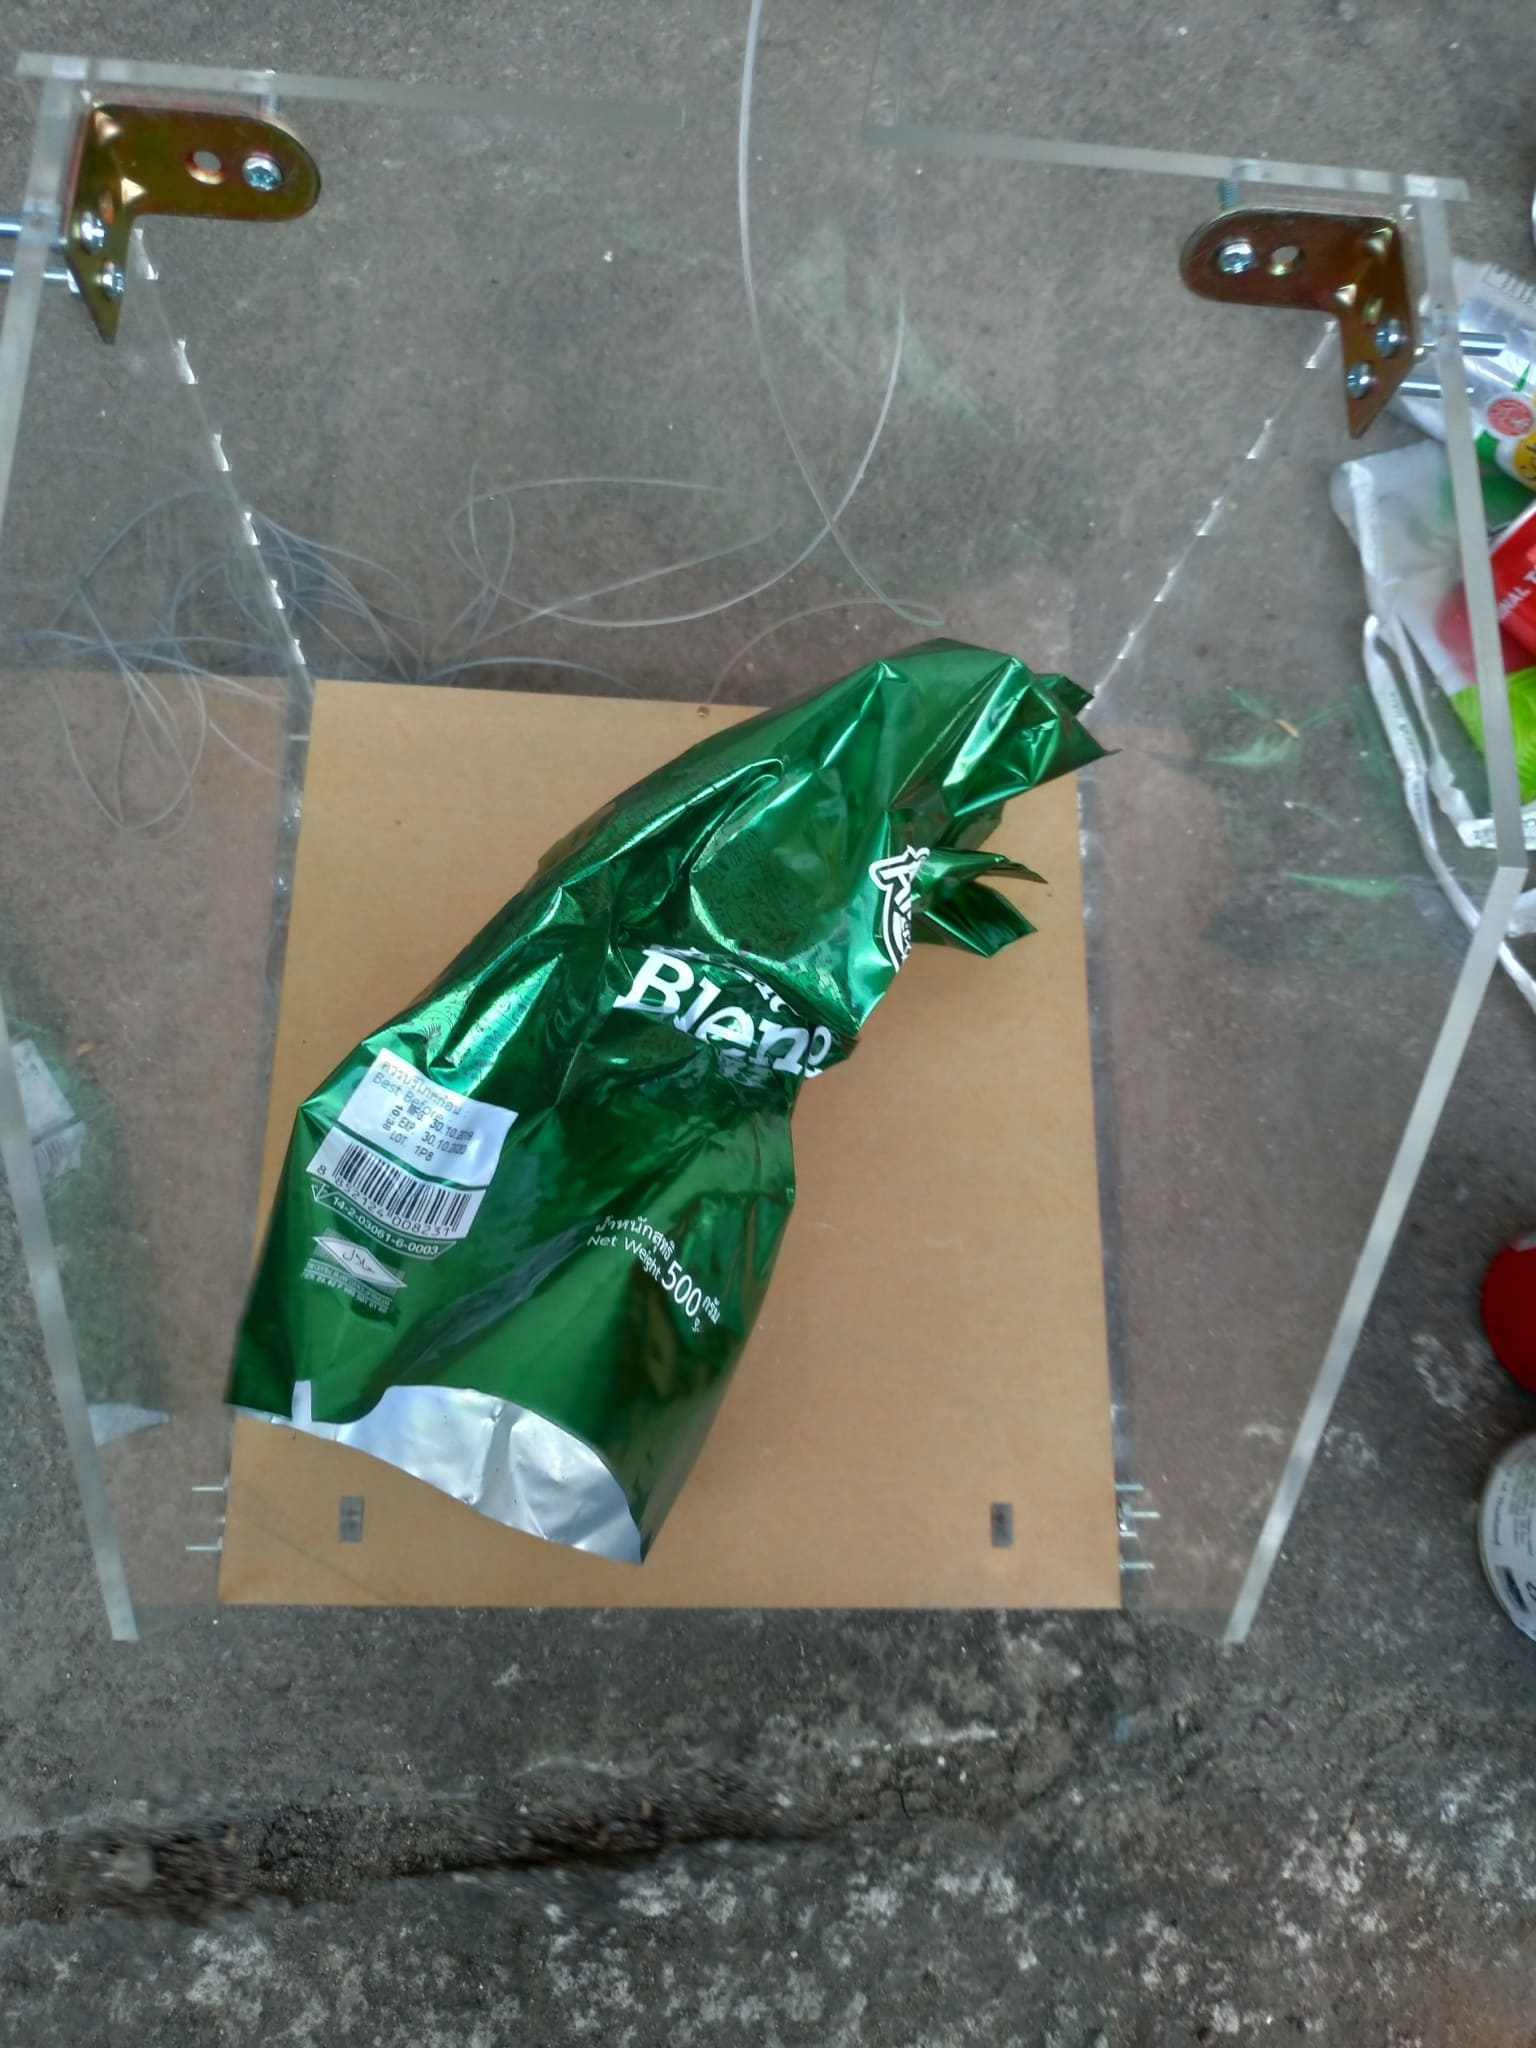AlCan: (1344, 256, 1536, 490)
Others: (219, 611, 1091, 1551)
